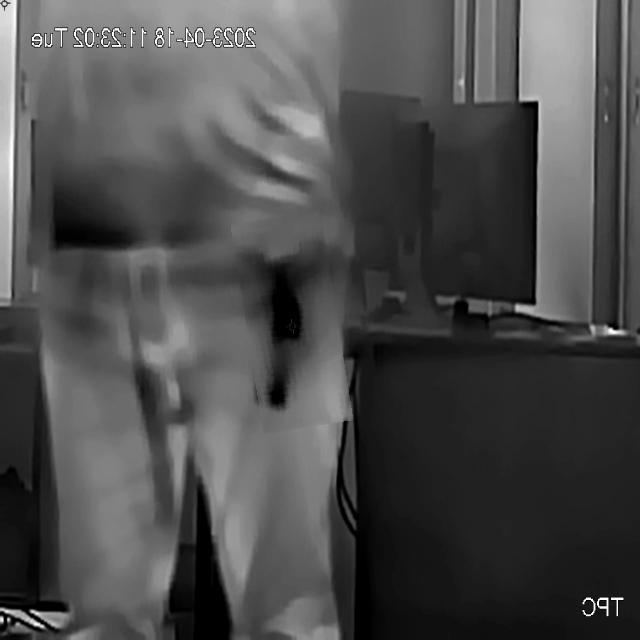Weapon: (239, 214, 346, 432)
